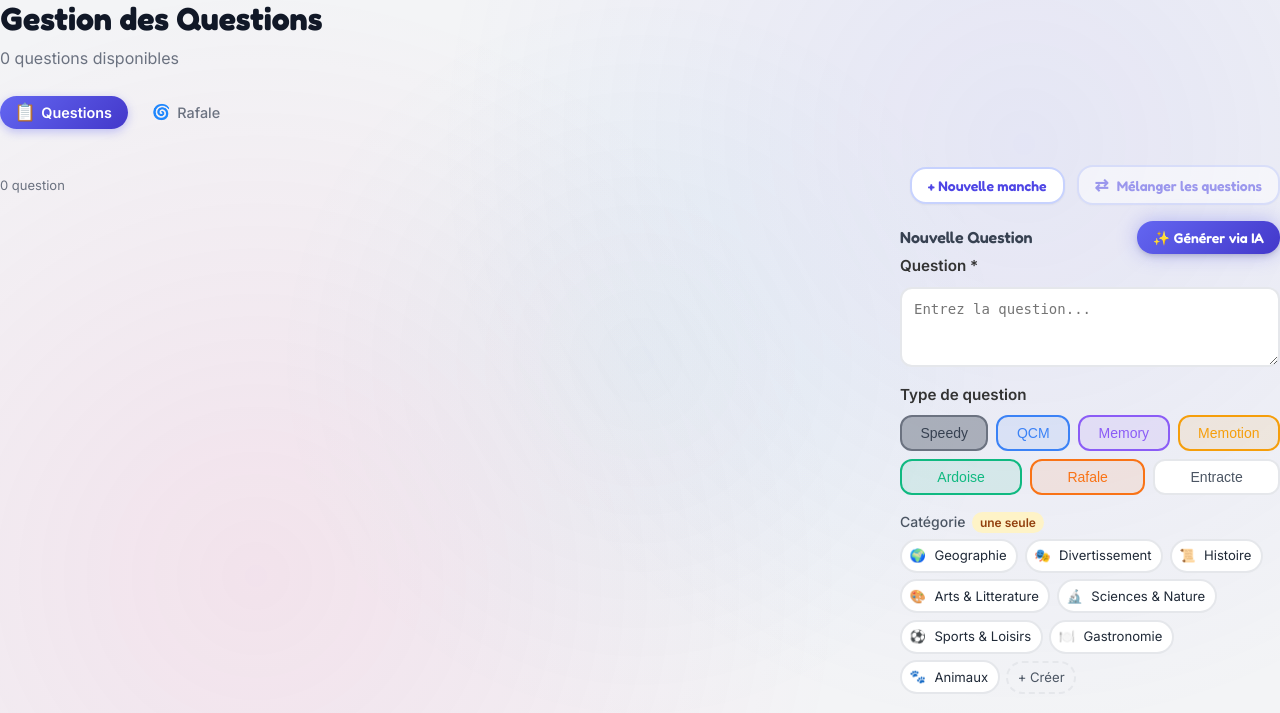
it: QuestionsPage — hasUnsavedQuizChanges : structurellement toujours false depuis #215 › un changement de gameState (ex. UPDATE_QUIZ_META émis depuis Backstage dans un autre onglet) ne fait toujours apparaître aucun bandeau
Step 1. Click the button "✨ Générer via IA" → x=1208, y=238, box [1137, 221, 1279, 254]
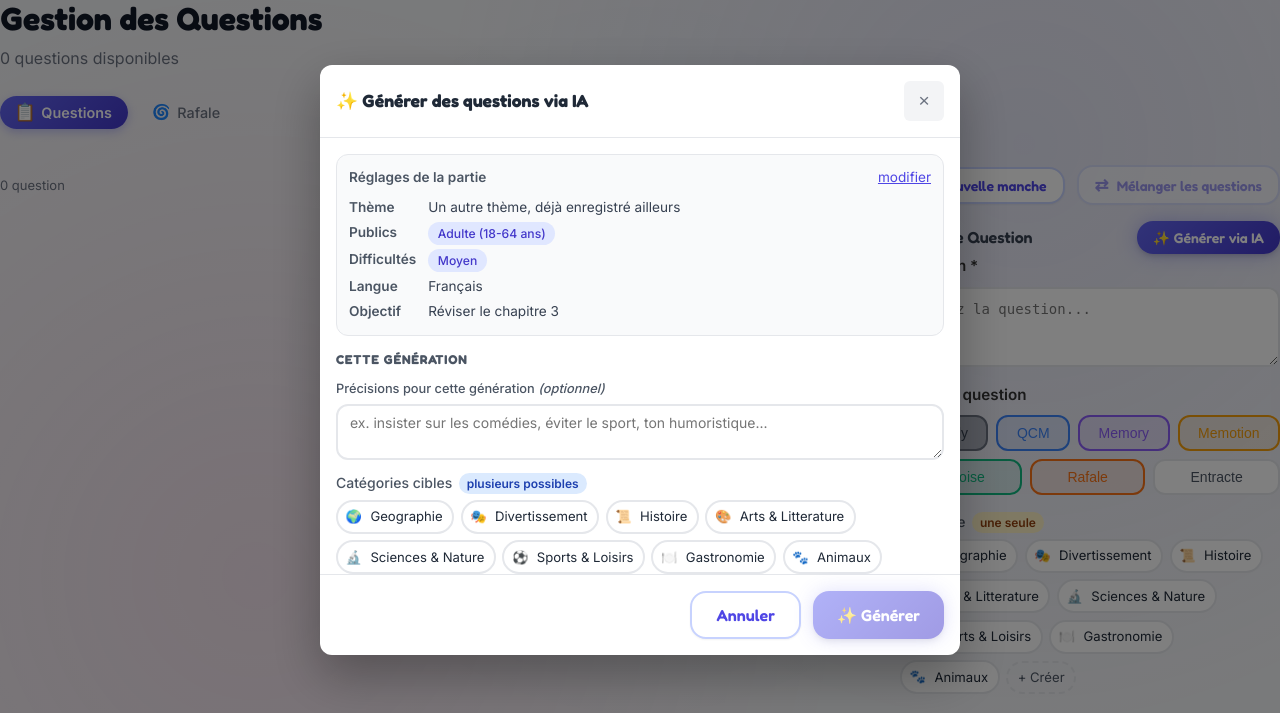
Result: the text "Un autre thème, déjà enregistré ailleurs" is shown at [428, 198, 680, 214]
